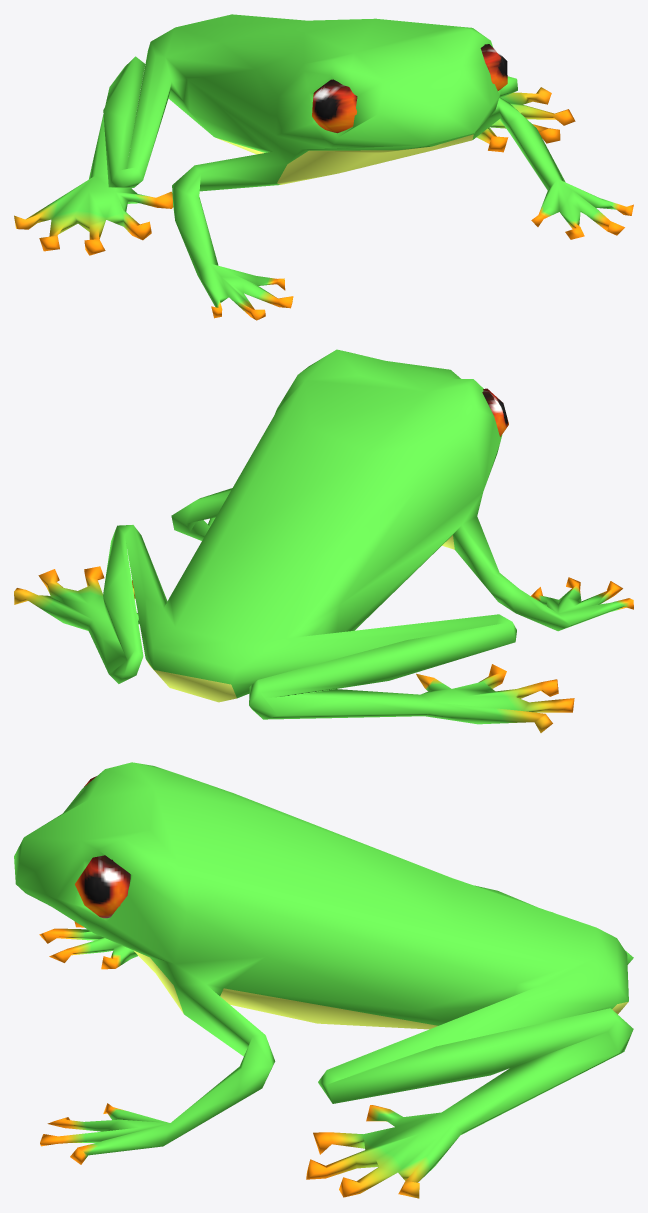
The model's file is Frog02.glb.
3 views of the same model, one above another, from view 1: azimuth 30°, elevation 25°; view 2: azimuth 150°, elevation 25°; view 3: azimuth 270°, elevation 25° (orthographic). The views are drawn at different scales.
Parts seen in each view (by area): view 1: Frog02; view 2: Frog02; view 3: Frog02.
Boxes of the visible parts, <box> form: Frog02: <box>14,14,633,320</box>; Frog02: <box>14,349,633,732</box>; Frog02: <box>14,762,633,1198</box>.
Size of what is drawn, in the model's own units: 0.3727 by 0.1413 by 0.3182.
Materials: 1 (1 with a texture image).
